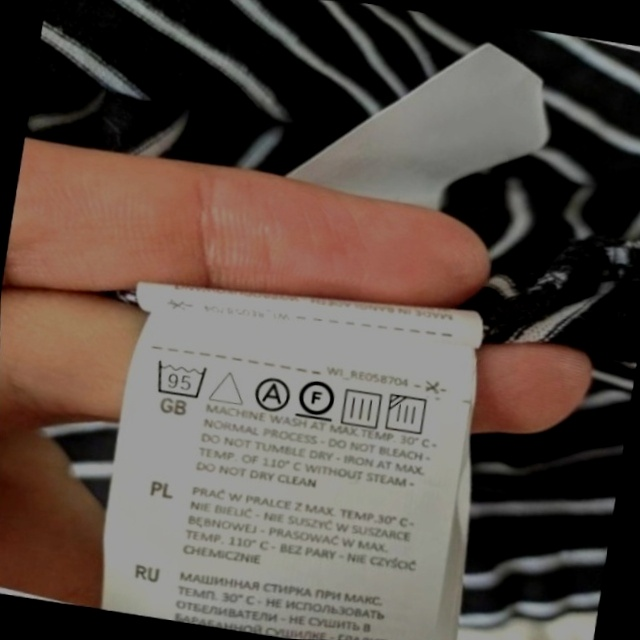95C: (149, 352, 214, 405)
bleach: (206, 362, 250, 411)
drip_dry: (335, 381, 389, 434)
drip_dry_in_shade: (381, 388, 436, 442)
dry_clean: (248, 371, 295, 417)
dry_clean_petrol_only: (292, 371, 342, 426)
